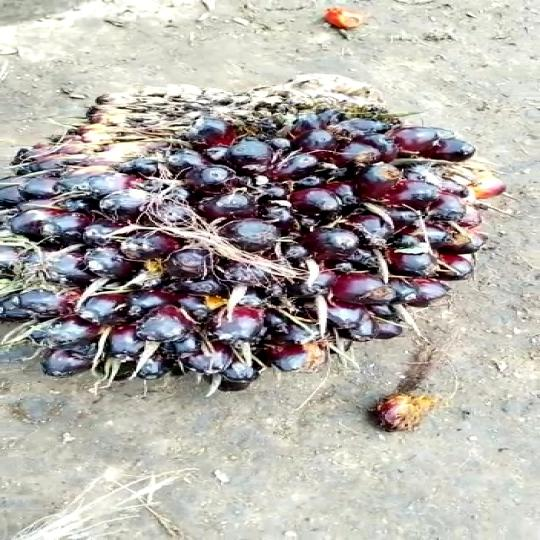mentah: (4, 84, 504, 398)
